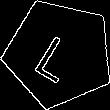L_NE: (32, 24, 86, 83)
